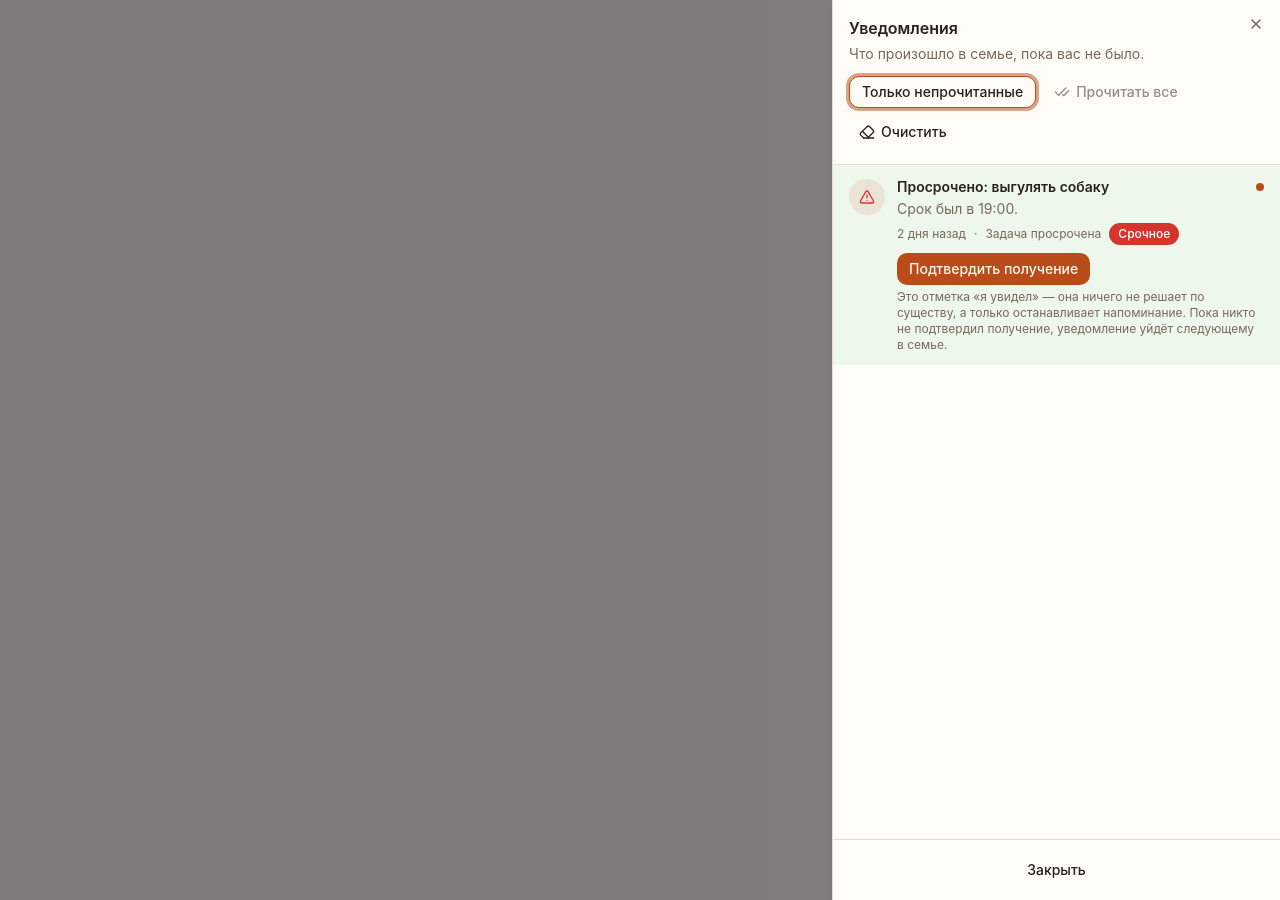
«Очистить» — the inbox’s one destructive action › says the inbox was emptied, not that nothing ever came
Click the button "Очистить".
click(903, 132)  # box left=849, top=116, right=957, bottom=148
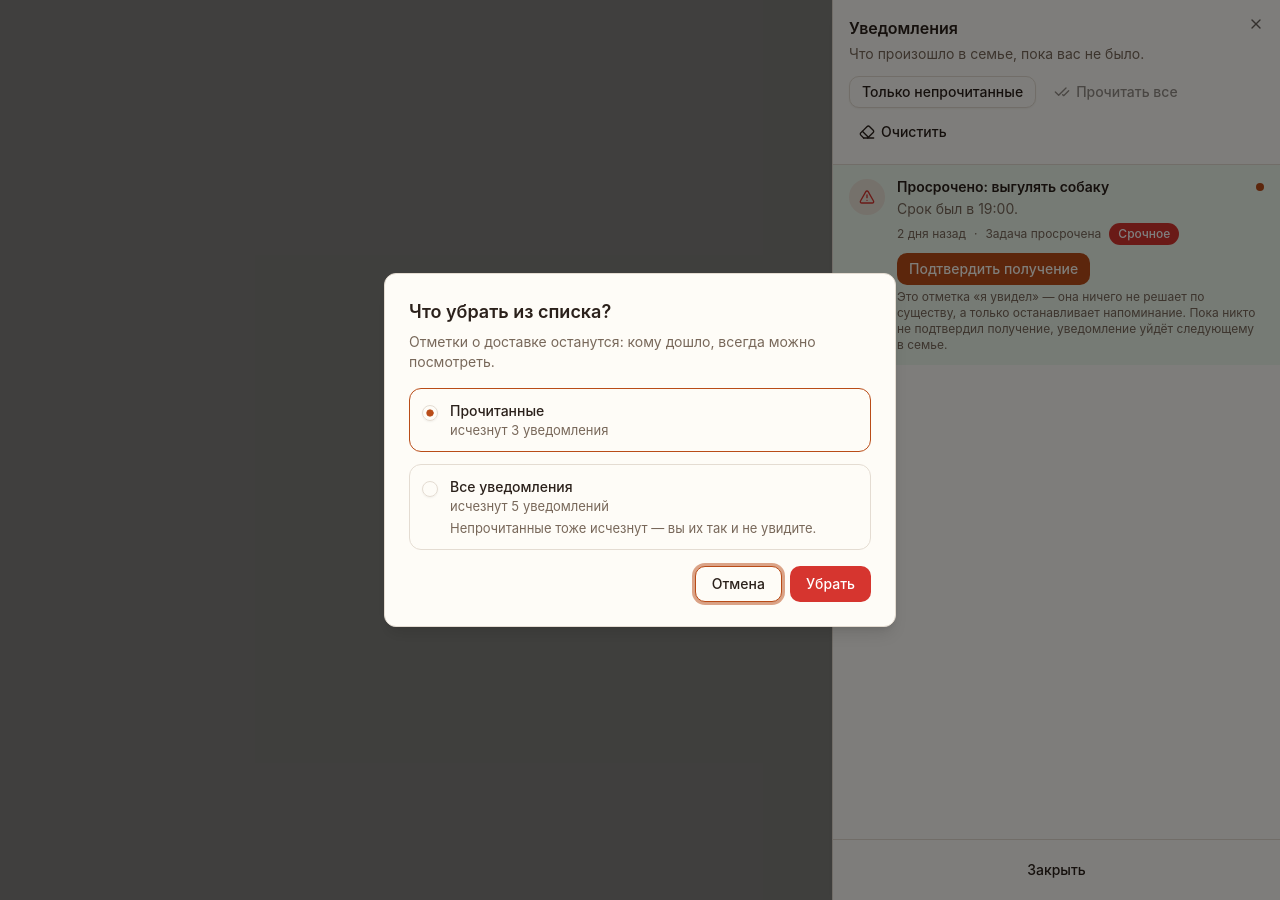
Click the button "Убрать".
click(830, 584)  # box left=790, top=566, right=871, bottom=602
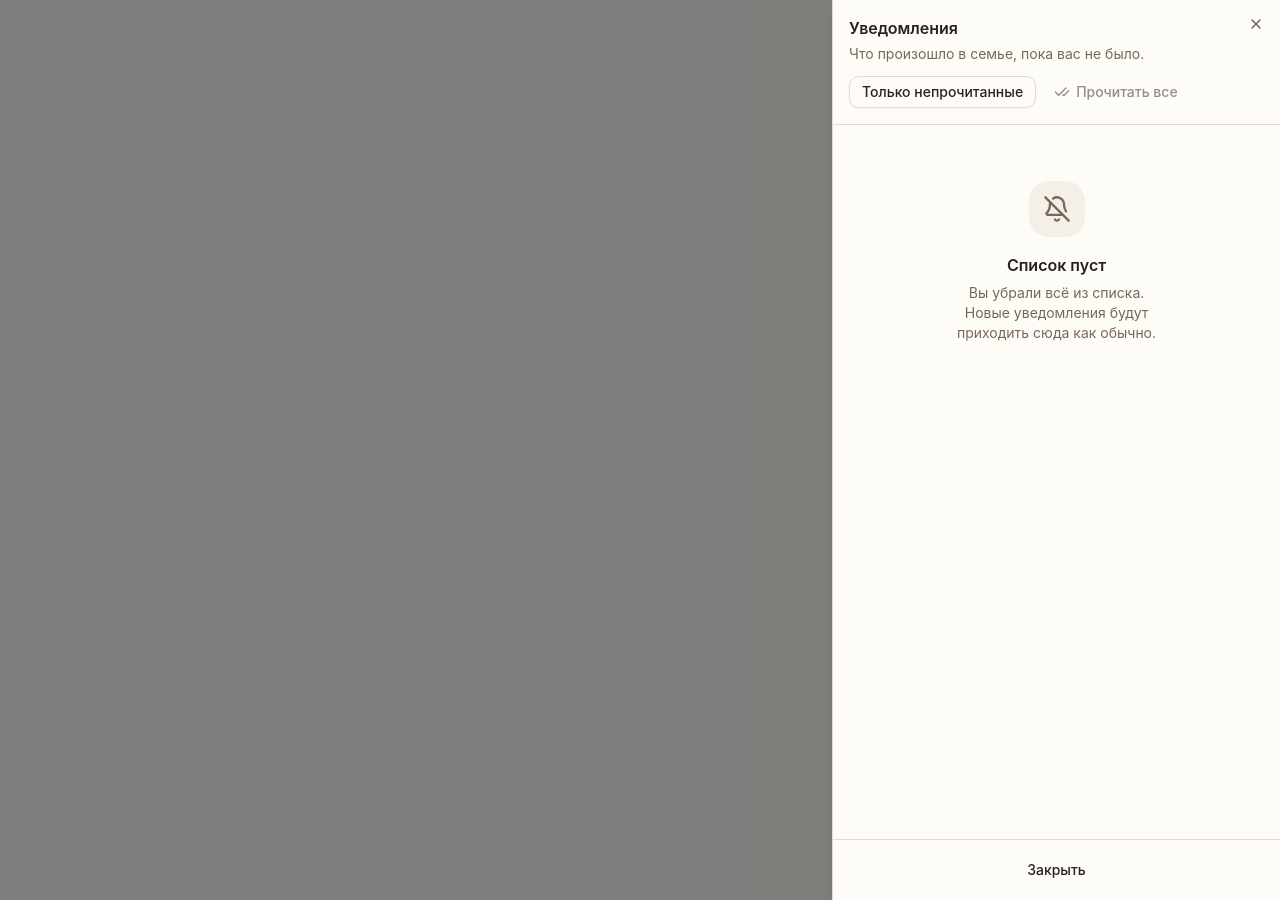
Expected: the heading "Список пуст" is shown, left=1007, top=255, right=1106, bottom=275
